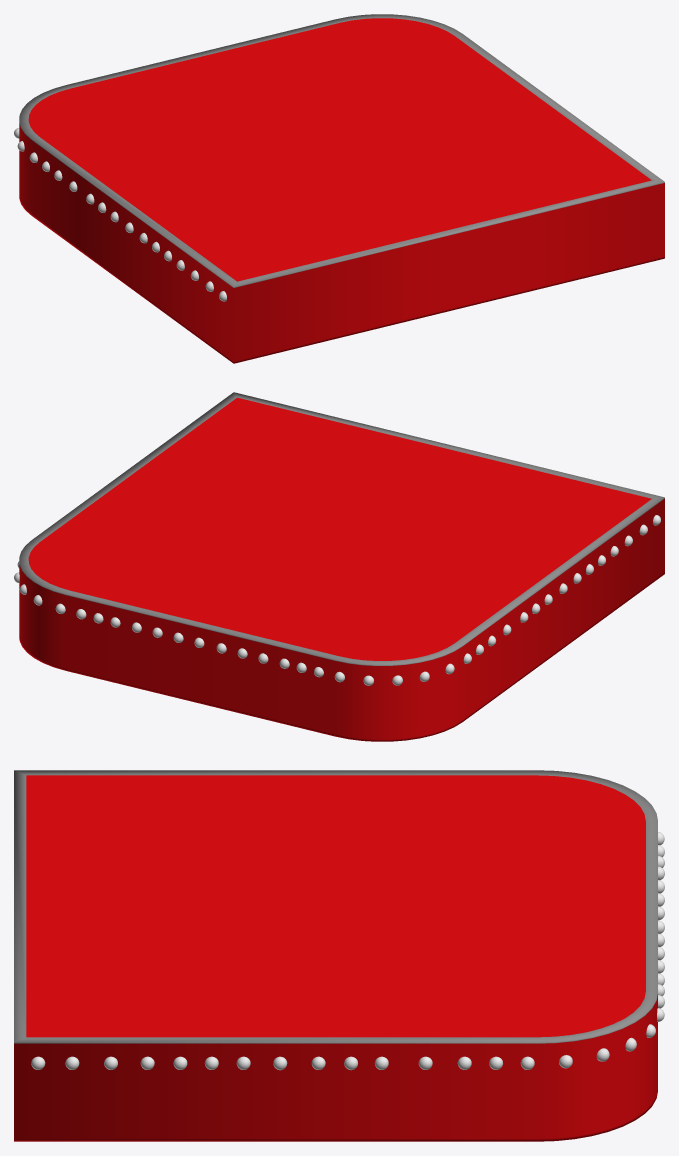
The model's file is PlatformA.fbx.
3 renders of one model, top to bottom at view 1: azimuth 30°, elevation 25°; view 2: azimuth 150°, elevation 25°; view 3: azimuth 270°, elevation 25°, orthographic. The views are drawn at different scales.
Parts seen in each view (by area): view 1: Cube.021; view 2: Cube.021; view 3: Cube.021.
Part boxes in pixels (x1,y1,x2,y2): Cube.021: (19,14,664,363); Cube.021: (19,392,664,741); Cube.021: (14,770,657,1141).
Size of the model in its own units: 1044 by 174 by 1032.
